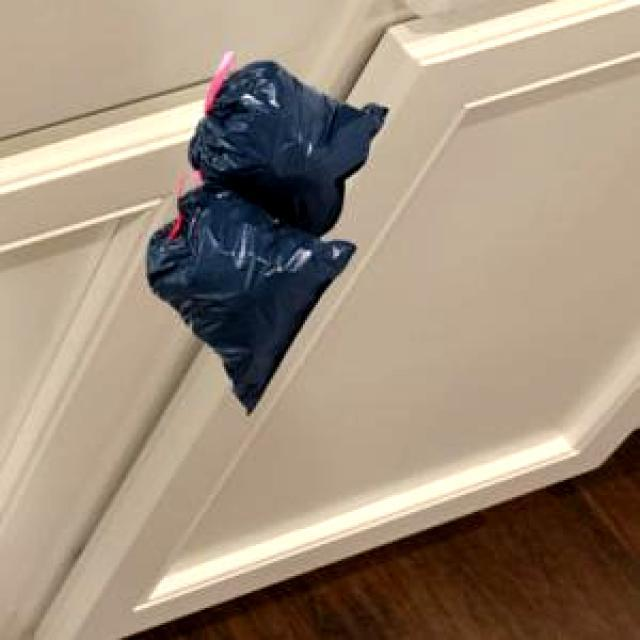Garbage_Bag: (144, 48, 385, 411)
